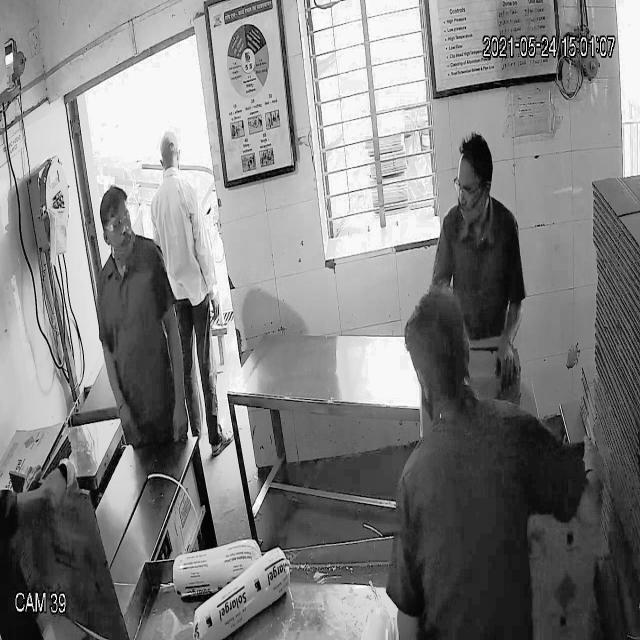glasses: (448, 167, 491, 206), (98, 210, 132, 240)
